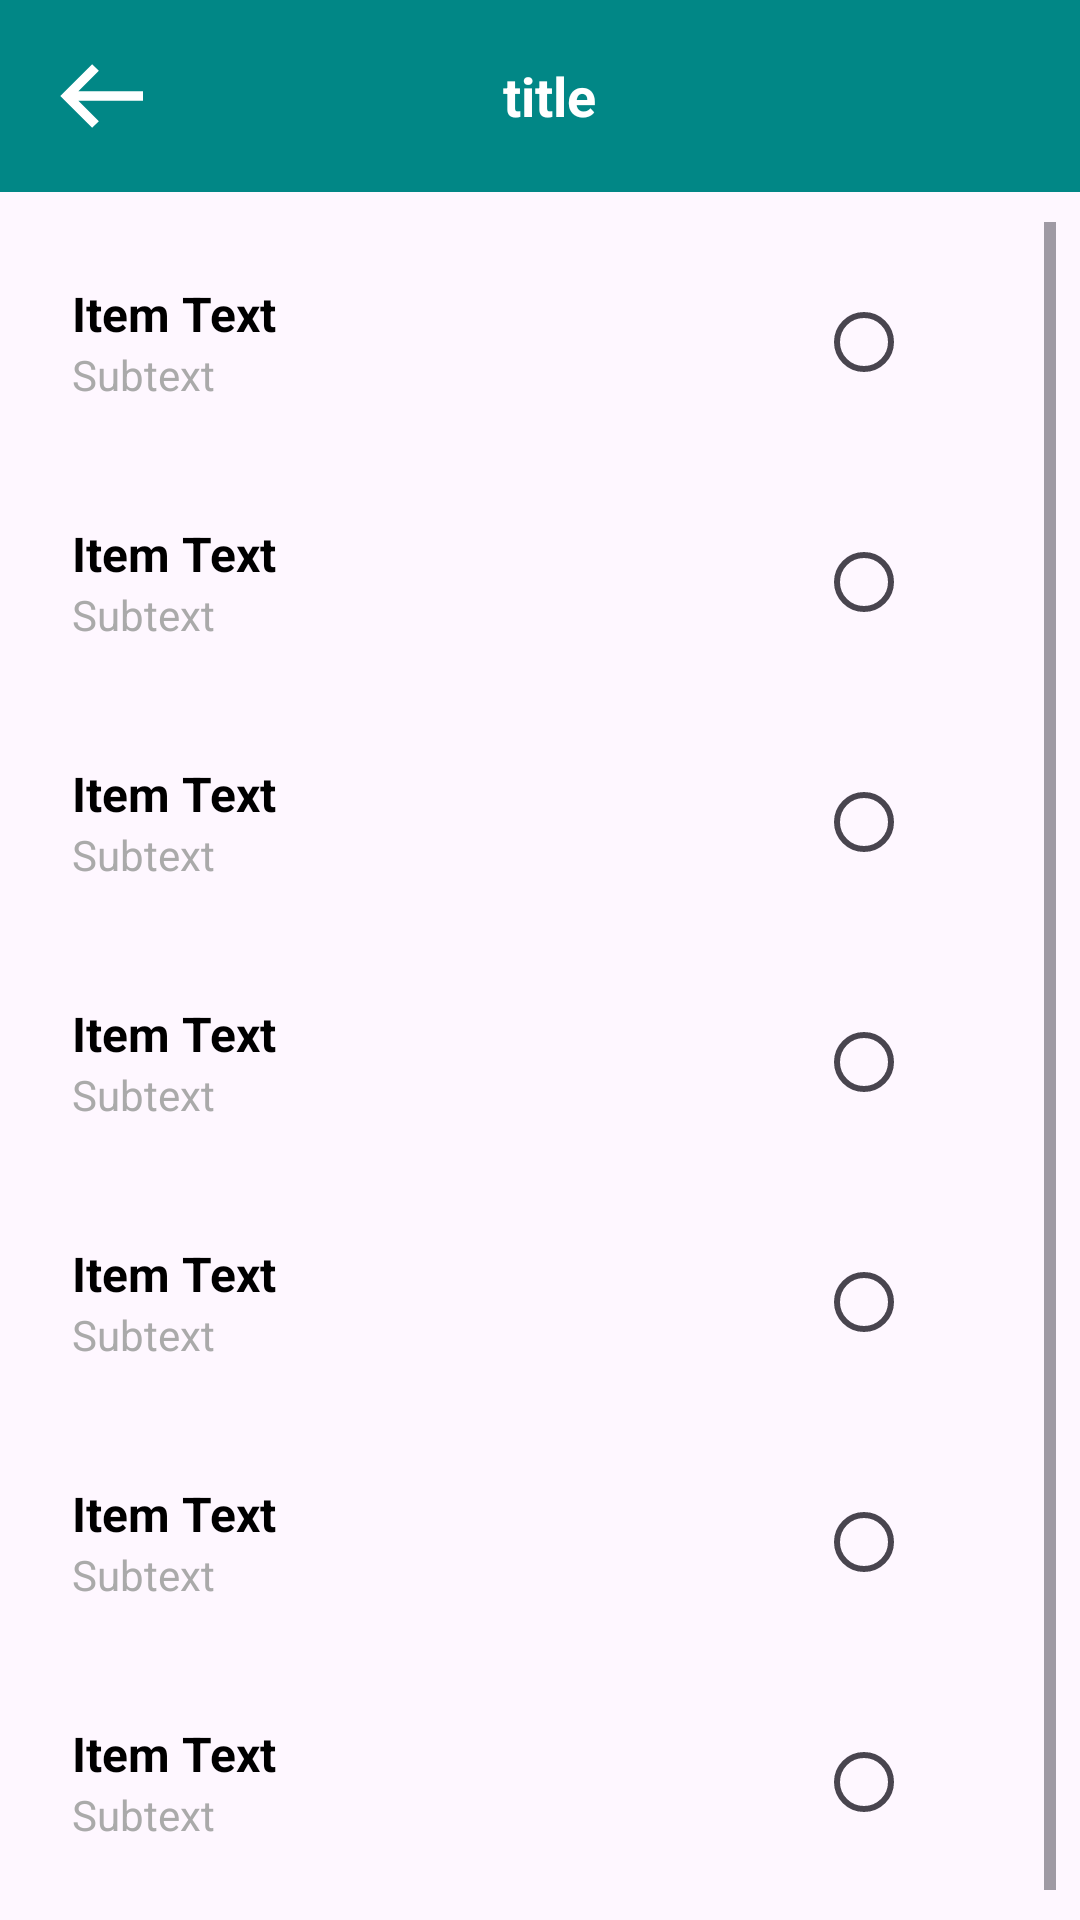

Icons on this 1080x1920 Android screen, each with its box as (x1, y1, x2, y2):
back: (60, 64, 143, 128)
